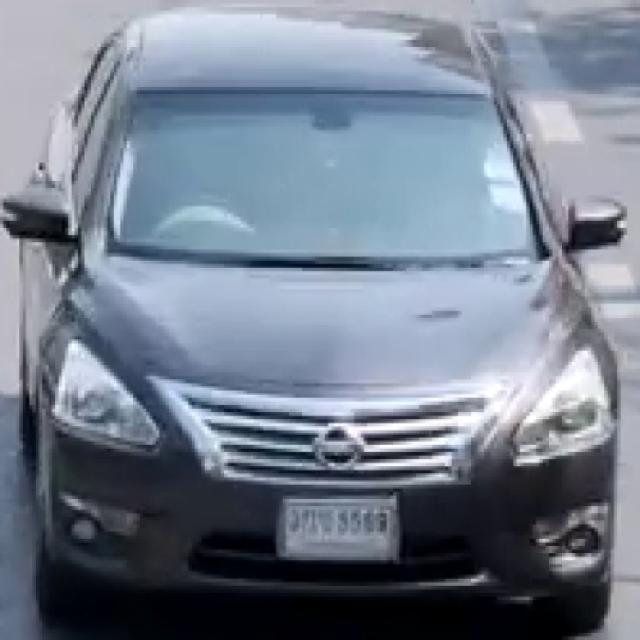plate: (285, 501, 393, 556)
